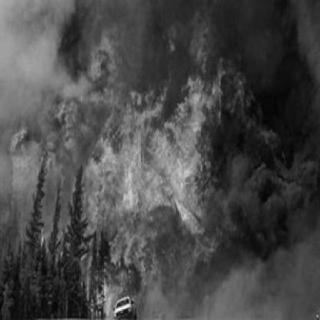Fire: (12, 25, 260, 318)
